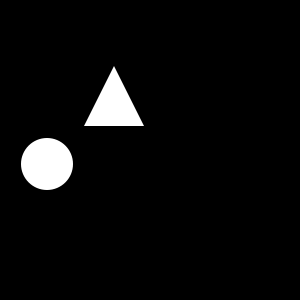rectangle: (21, 138, 73, 190)
triangle: (84, 66, 144, 126)
